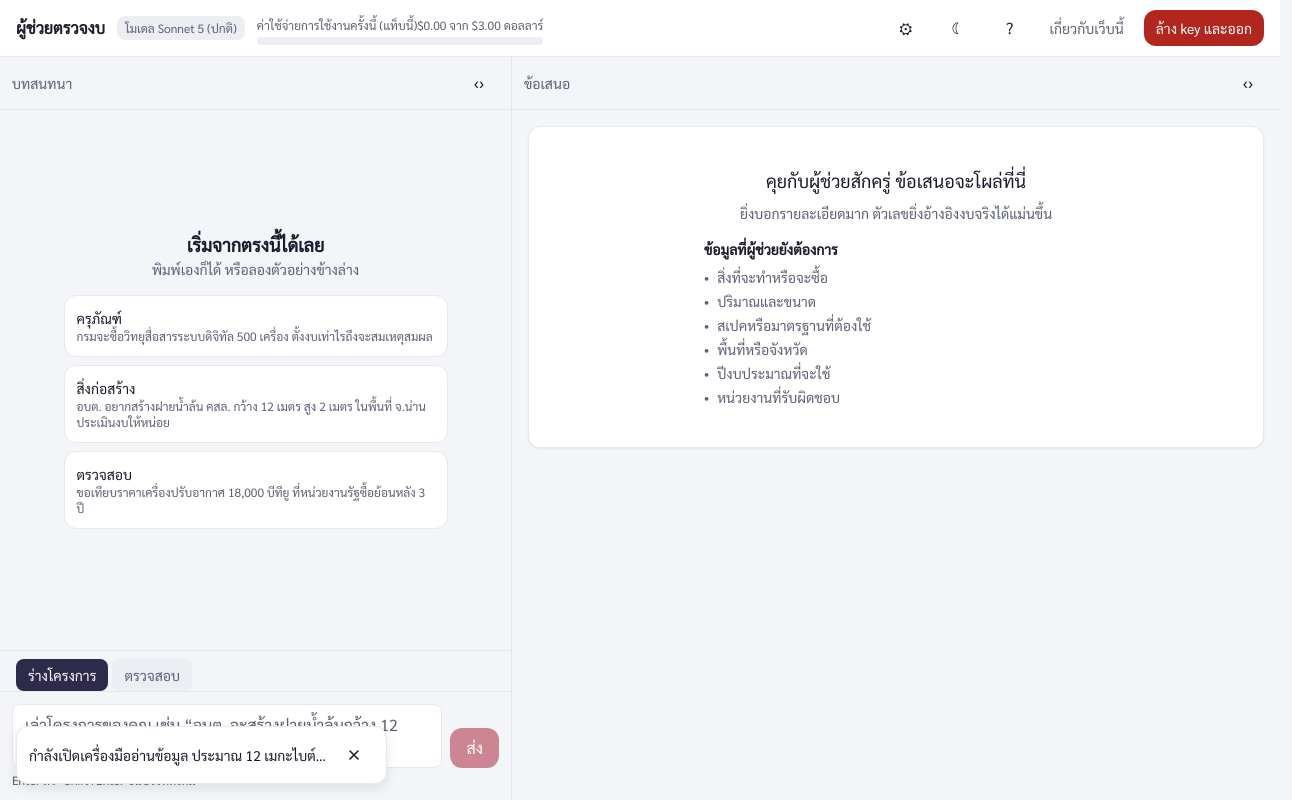
Scenario: WorkspacePage — desktop 2-pane (06 §4.2–4.3) › กดย่อบทสนทนา → chat pane หาย, proposal ขยายเต็ม, กดขยายกลับคืนได้
The image size is (1292, 800).
Click the button named "ย่อบทสนทนา" at (479,83), box [459,63,499,103]
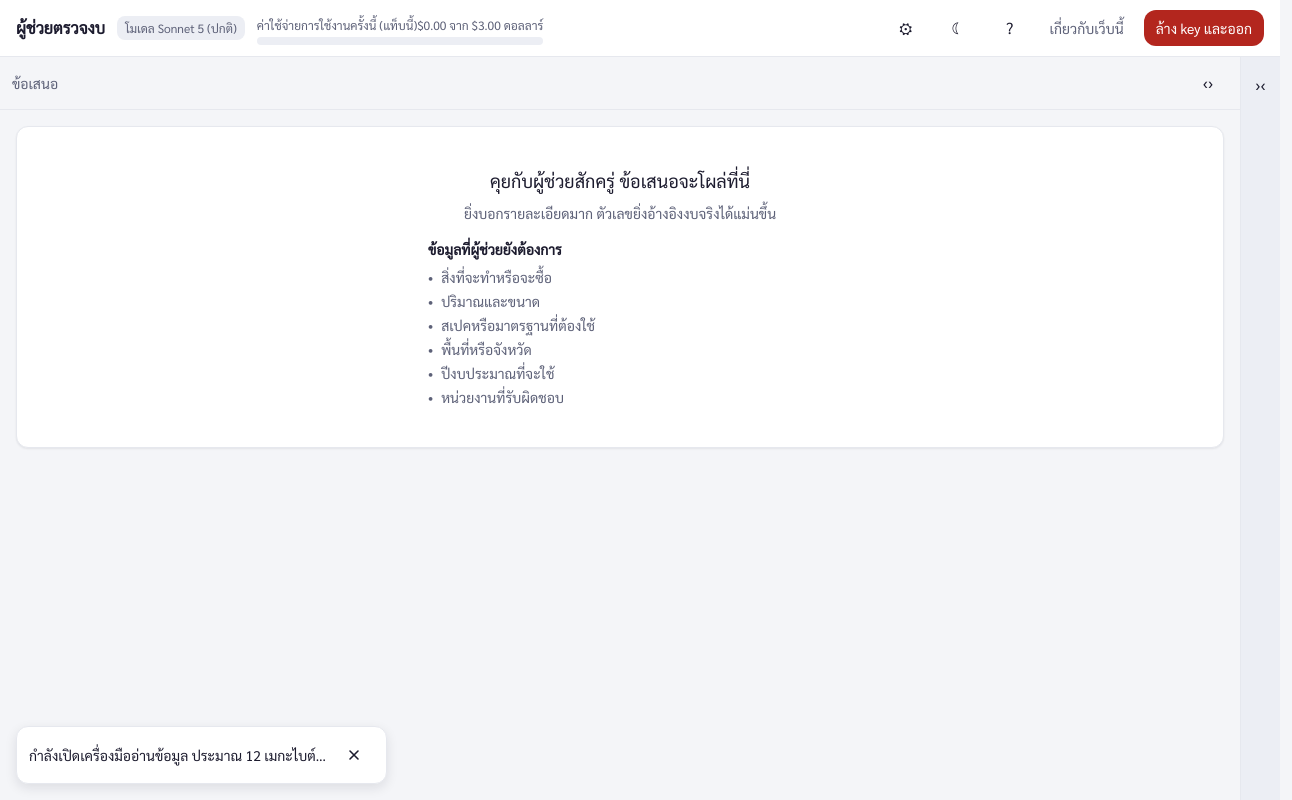
Expected: the element "ข้อเสนอ" is shown, [0,57,1240,448]
Expected: the text "บทสนทนา" is gone
Click the button named "ขยายบทสนทนา" at (1260,85), box [1240,65,1280,105]
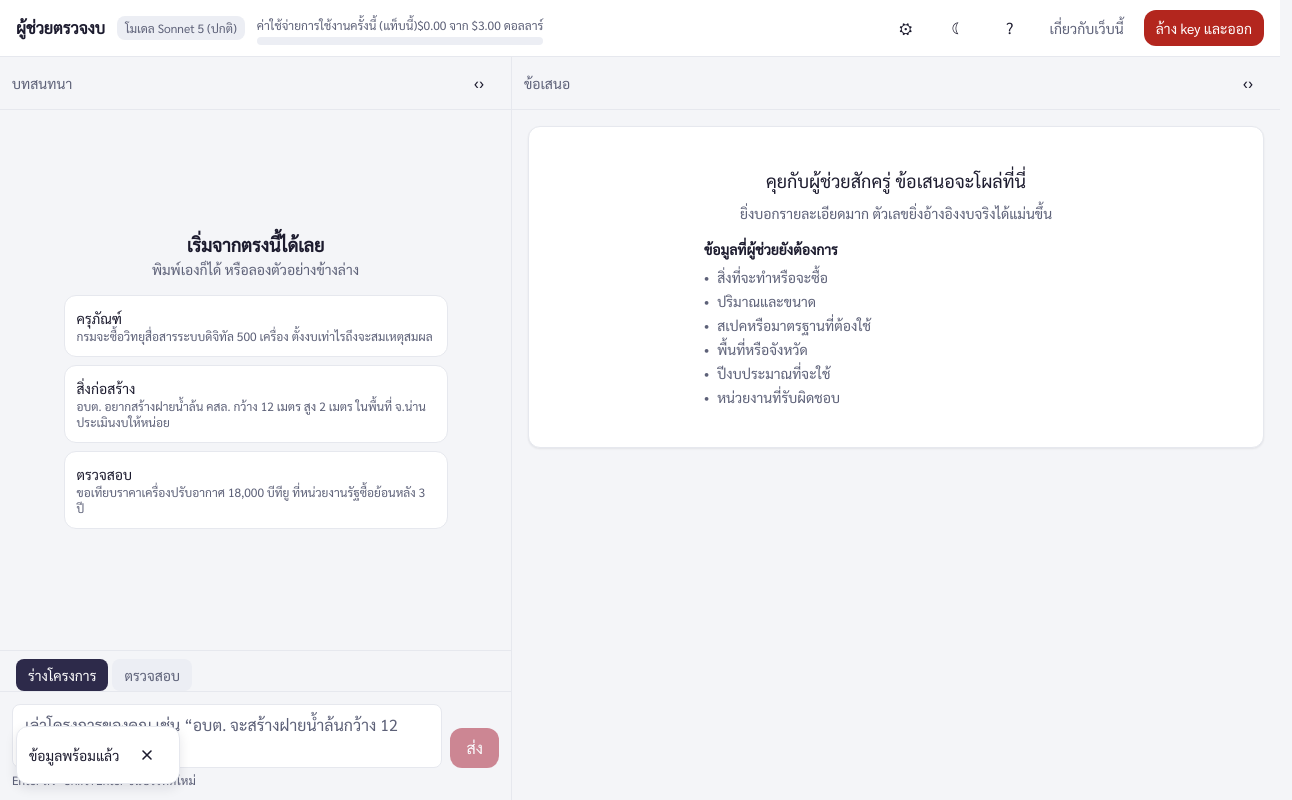
Expected: the element "บทสนทนา" is shown, [0,57,512,799]
